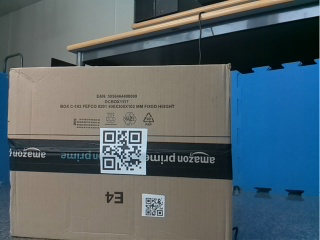caja: (7, 65, 234, 240)
